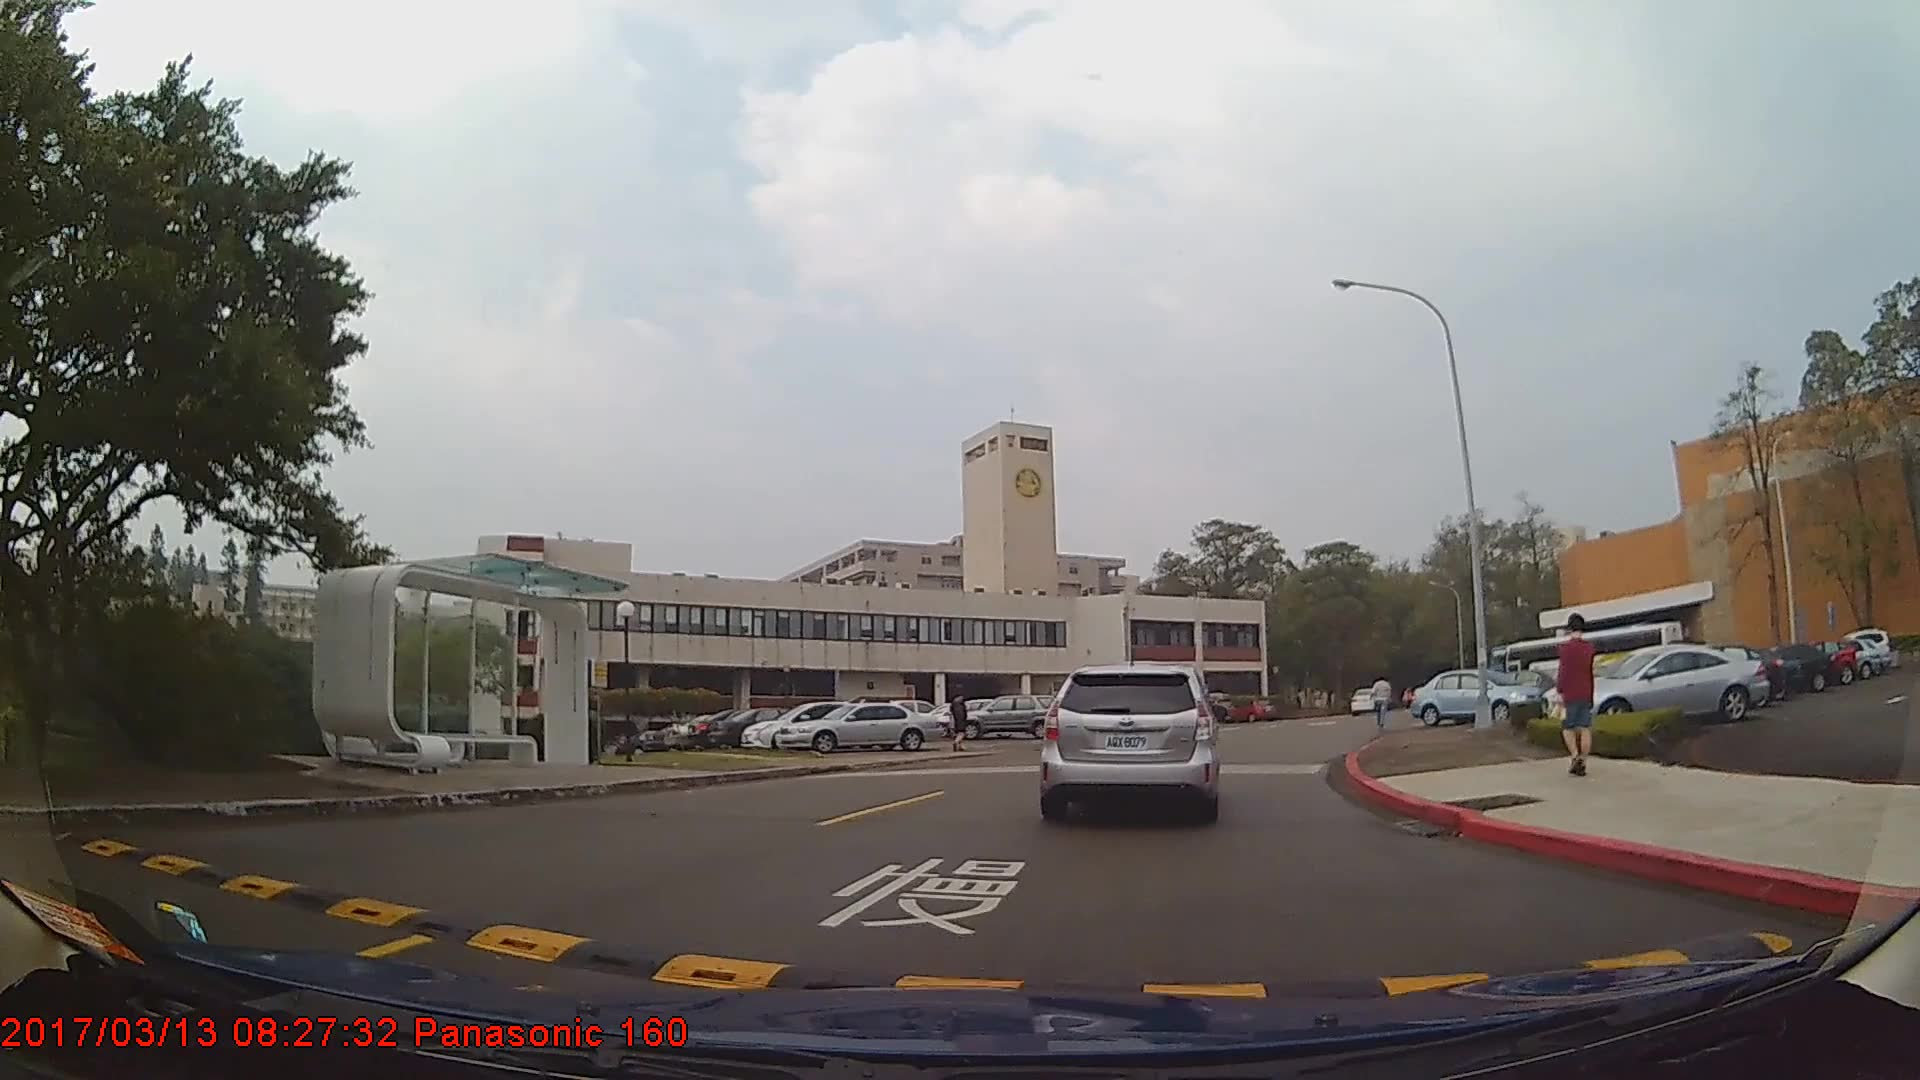pedestrian: (1548, 615, 1600, 779), (951, 690, 972, 755), (1370, 672, 1393, 734)
vehicle: (1039, 665, 1218, 822), (1554, 643, 1766, 727), (776, 699, 942, 752), (734, 698, 895, 748), (1406, 669, 1543, 726), (1686, 647, 1803, 700), (1724, 641, 1833, 693), (953, 692, 1065, 738), (707, 706, 823, 748), (1348, 687, 1383, 716)
